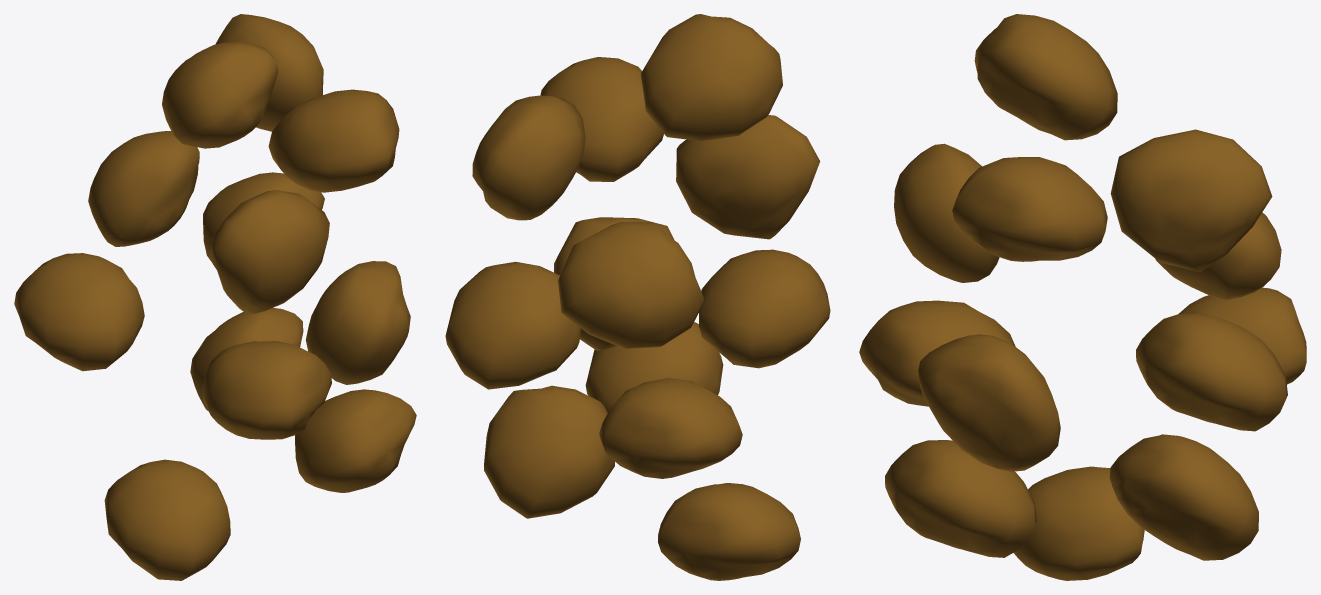
Rendered from fish_food.obj.
The picture shows the model from 3 angles, left to right: view 1: azimuth 30°, elevation 25°; view 2: azimuth 150°, elevation 25°; view 3: azimuth 270°, elevation 25°; orthographic projection. The views are drawn at different scales.
Visible parts, largest first — view 1: Sphere.001, Sphere.006, Sphere.005, Sphere.011, Sphere.004, Sphere.007, Sphere.009, Sphere.012, Sphere.008, Sphere.010, Sphere.013, Sphere.003; view 2: Sphere.007, Sphere.008, Sphere.013, Sphere.003, Sphere.005, Sphere.004, Sphere.001, Sphere.006, Sphere.010, Sphere.011, Sphere.012, Sphere.009; view 3: Sphere.010, Sphere.009, Sphere.013, Sphere.003, Sphere.008, Sphere.011, Sphere.012, Sphere.001, Sphere.005, Sphere.004, Sphere.006, Sphere.007.
Part boxes in pixels (x1=…): Sphere.001: x1=104, y1=459, x2=230, y2=580; Sphere.006: x1=14, y1=253, x2=144, y2=371; Sphere.005: x1=210, y1=190, x2=329, y2=313; Sphere.011: x1=268, y1=89, x2=399, y2=192; Sphere.004: x1=202, y1=341, x2=331, y2=439; Sphere.007: x1=88, y1=131, x2=199, y2=246; Sphere.009: x1=306, y1=261, x2=410, y2=384; Sphere.012: x1=295, y1=389, x2=416, y2=492; Sphere.008: x1=162, y1=42, x2=278, y2=148; Sphere.010: x1=215, y1=14, x2=323, y2=131; Sphere.013: x1=190, y1=308, x2=303, y2=410; Sphere.003: x1=203, y1=172, x2=324, y2=261; Sphere.007: x1=558, y1=222, x2=703, y2=348; Sphere.008: x1=641, y1=14, x2=782, y2=140; Sphere.013: x1=484, y1=385, x2=614, y2=518; Sphere.003: x1=445, y1=261, x2=581, y2=389; Sphere.005: x1=676, y1=115, x2=820, y2=239; Sphere.004: x1=699, y1=249, x2=830, y2=368; Sphere.001: x1=658, y1=483, x2=800, y2=580; Sphere.006: x1=599, y1=378, x2=742, y2=478; Sphere.010: x1=472, y1=95, x2=585, y2=220; Sphere.011: x1=540, y1=57, x2=663, y2=181; Sphere.012: x1=585, y1=322, x2=723, y2=412; Sphere.009: x1=554, y1=217, x2=674, y2=350; Sphere.010: x1=1110, y1=129, x2=1272, y2=272; Sphere.009: x1=918, y1=334, x2=1060, y2=471; Sphere.013: x1=1109, y1=434, x2=1258, y2=560; Sphere.003: x1=1136, y1=313, x2=1287, y2=431; Sphere.008: x1=974, y1=14, x2=1117, y2=140; Sphere.011: x1=952, y1=157, x2=1107, y2=261; Sphere.012: x1=885, y1=440, x2=1036, y2=557; Sphere.001: x1=1013, y1=466, x2=1144, y2=580; Sphere.005: x1=894, y1=143, x2=999, y2=282; Sphere.004: x1=859, y1=300, x2=1015, y2=406; Sphere.006: x1=1178, y1=287, x2=1306, y2=384; Sphere.007: x1=1155, y1=212, x2=1281, y2=299.
Bounding box in the file's own units: 0.1162 × 0.21 × 0.1483.
